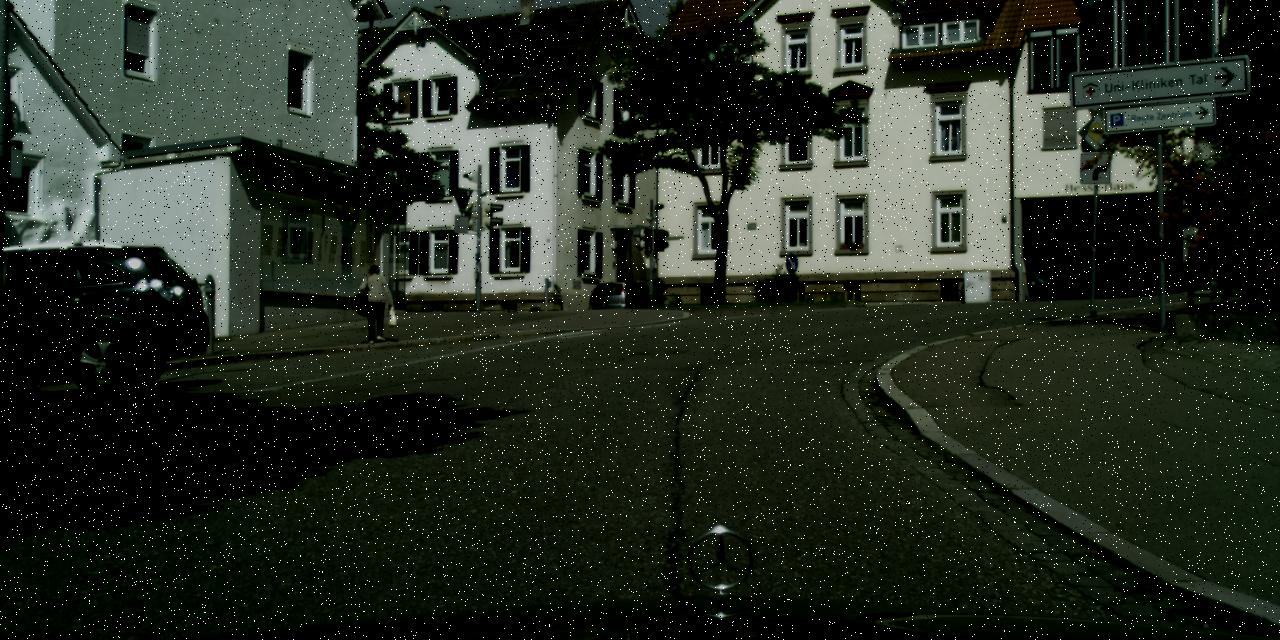ped: (359, 264, 390, 341)
